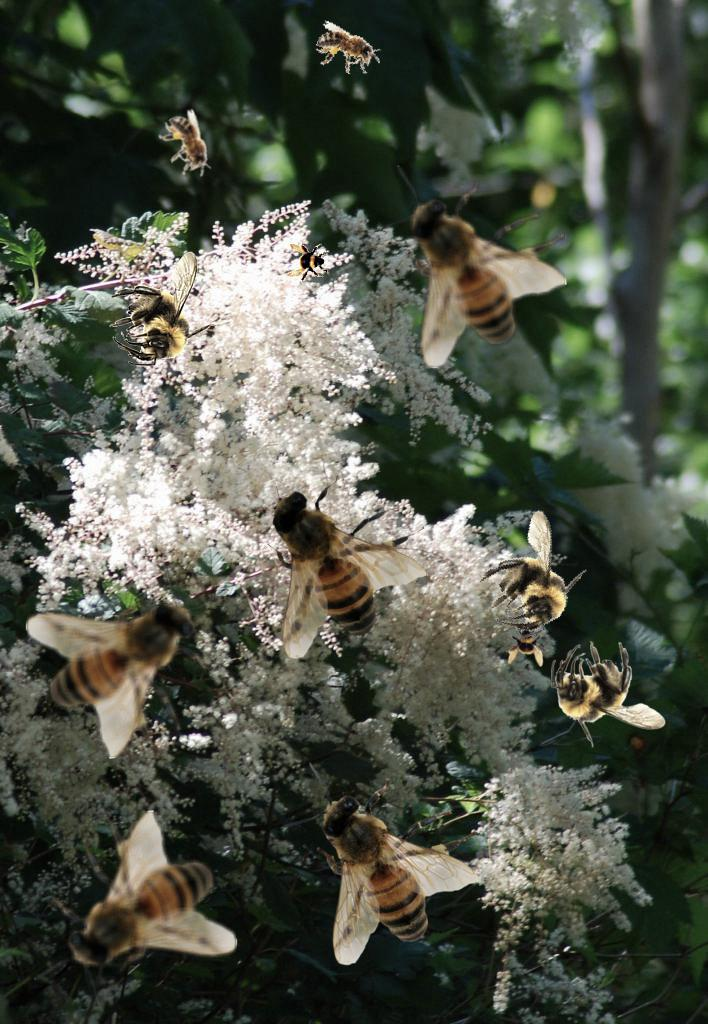Bee: (368, 165, 567, 369), (229, 457, 428, 661), (25, 560, 229, 759), (34, 810, 238, 1009), (280, 762, 479, 966), (460, 501, 603, 648), (109, 251, 216, 366), (551, 641, 666, 748), (152, 106, 224, 187), (311, 19, 387, 82), (286, 241, 330, 285), (506, 623, 550, 667)
